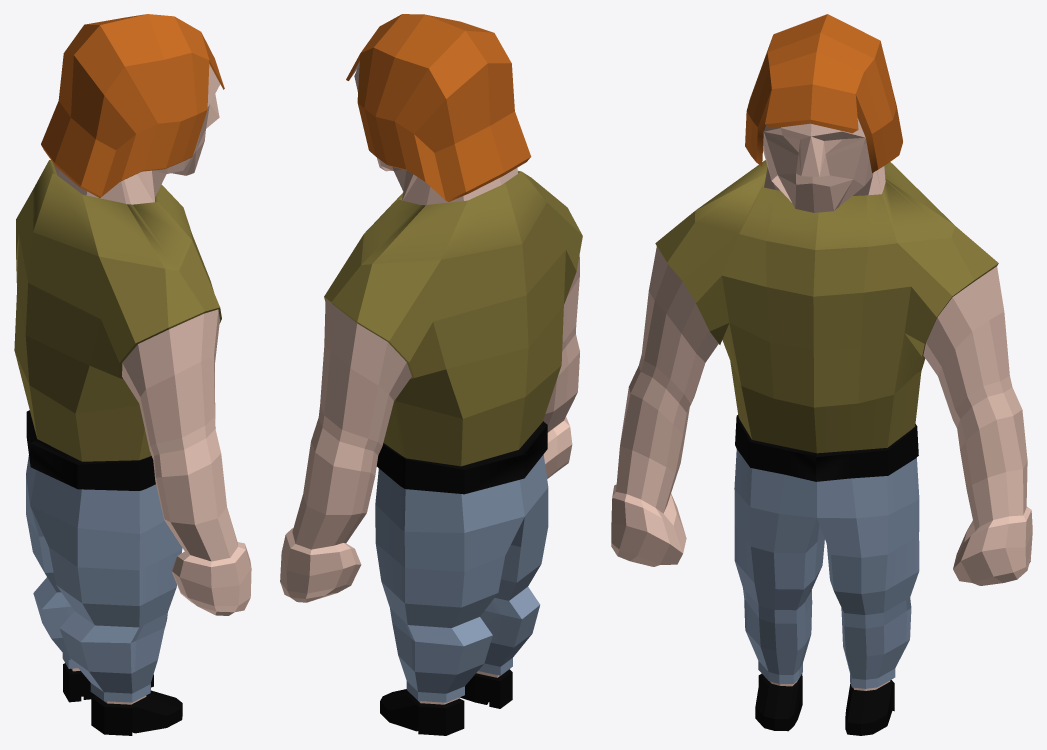
File: Client1.fbx
3 renders of one model, left to right at view 1: azimuth 30°, elevation 25°; view 2: azimuth 150°, elevation 25°; view 3: azimuth 270°, elevation 25°, orthographic.
Parts seen in each view (by area): view 1: Cylinder.009; view 2: Cylinder.009; view 3: Cylinder.009.
Part boxes in pixels (x1=…): Cylinder.009: x1=14, y1=14, x2=251, y2=735; Cylinder.009: x1=280, y1=14, x2=582, y2=735; Cylinder.009: x1=611, y1=14, x2=1032, y2=735.
Size of the model in its own units: 52.95 by 196 by 108.
